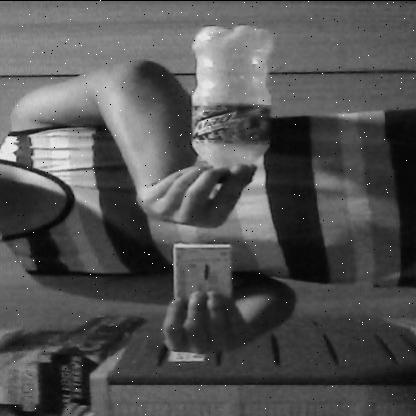Plastic Bottle: (178, 15, 285, 192)
